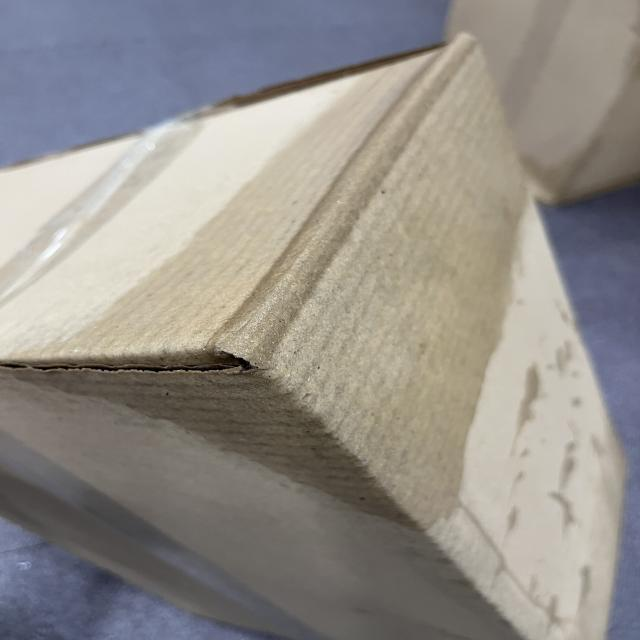wet: (65, 43, 525, 501)
